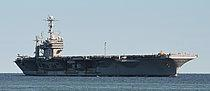MIL_Ship: (13, 15, 200, 77)
